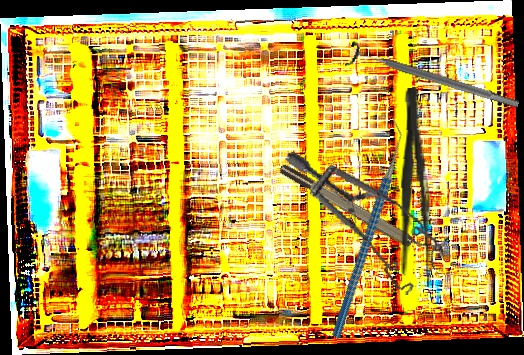Chopper: (265, 115, 467, 340)
Dressing Forceps: (395, 86, 435, 289)
Fixation Ring: (276, 153, 449, 271), (344, 39, 523, 119)
Speculum: (262, 150, 462, 302)
